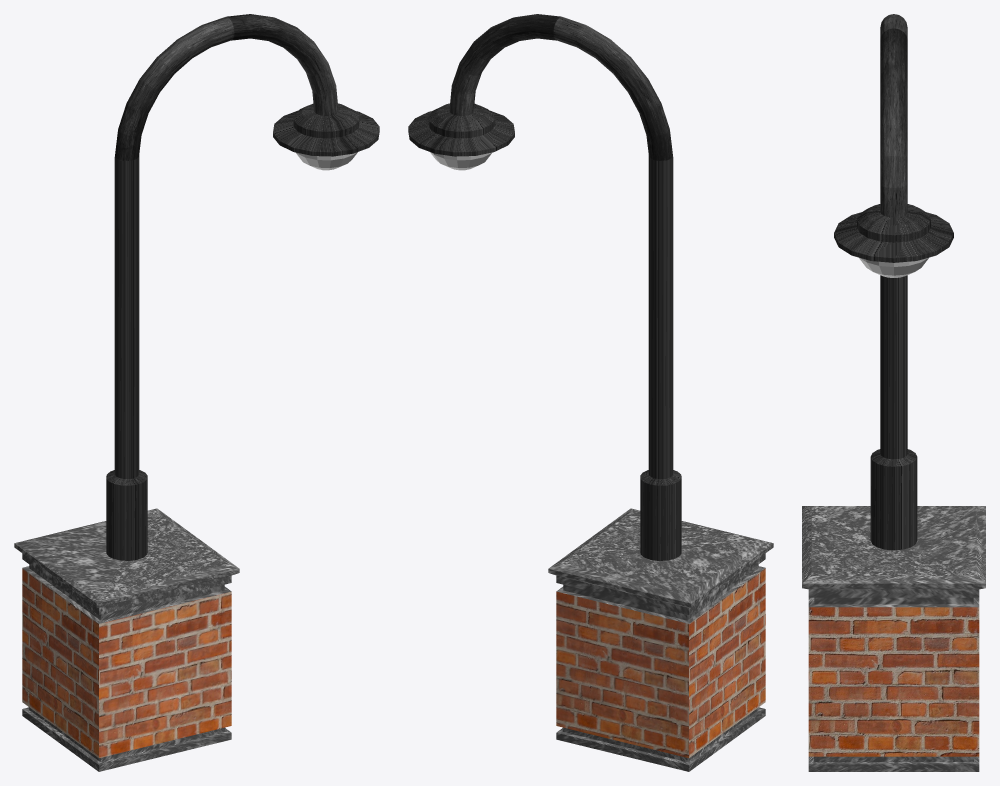
File: Lamp_Curve.fbx
The picture shows the model from 3 angles, left to right: view 1: azimuth 30°, elevation 25°; view 2: azimuth 150°, elevation 25°; view 3: azimuth 270°, elevation 25°; orthographic projection. The views are drawn at different scales.
Parts seen in each view (by area): view 1: Lamp_Curve_LOD0; view 2: Lamp_Curve_LOD0; view 3: Lamp_Curve_LOD0.
Boxes of the visible parts, left/top/right/bottom form: Lamp_Curve_LOD0: left=14, top=14, right=379, bottom=771; Lamp_Curve_LOD0: left=408, top=14, right=773, bottom=771; Lamp_Curve_LOD0: left=802, top=14, right=985, bottom=771.
Size of what is drawn, in the model's own units: 797 by 1644 by 359.
